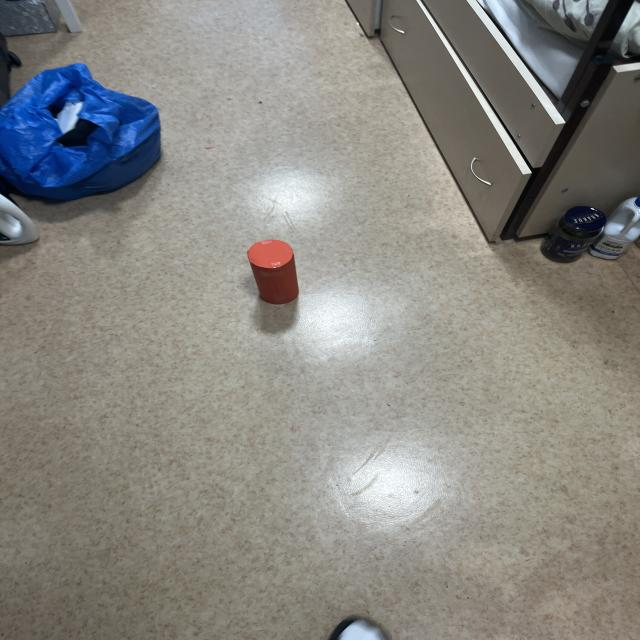przeszkoda: (247, 239, 299, 304)
